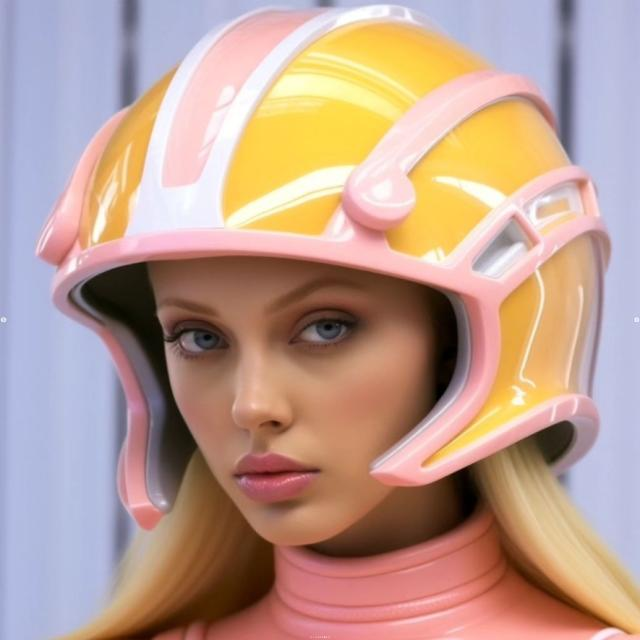illegal_helmet: (27, 0, 620, 542)
